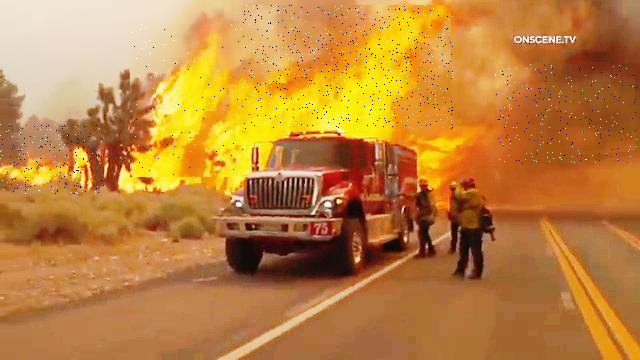fire: (243, 6, 454, 130), (131, 24, 246, 177), (0, 124, 104, 194)
smoke: (496, 64, 638, 164)
